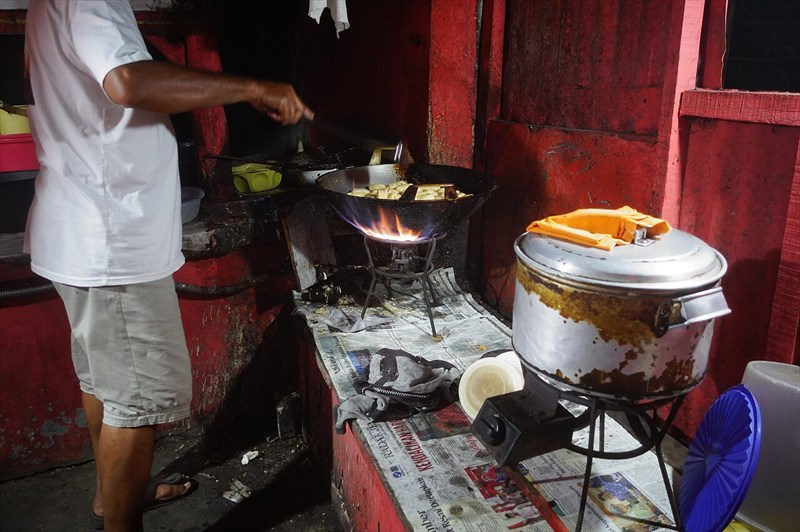Tempe Goreng: (37, 43, 728, 497)
